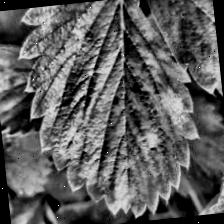Powdery Mildew Leaf: (13, 0, 209, 224)
